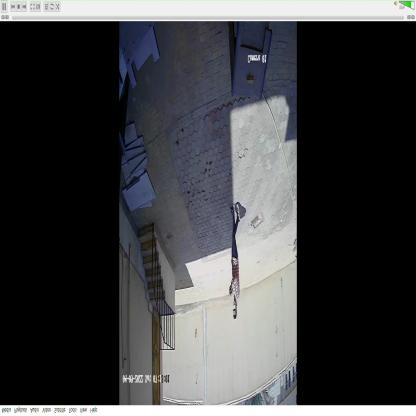handgun: (226, 278, 234, 303)
